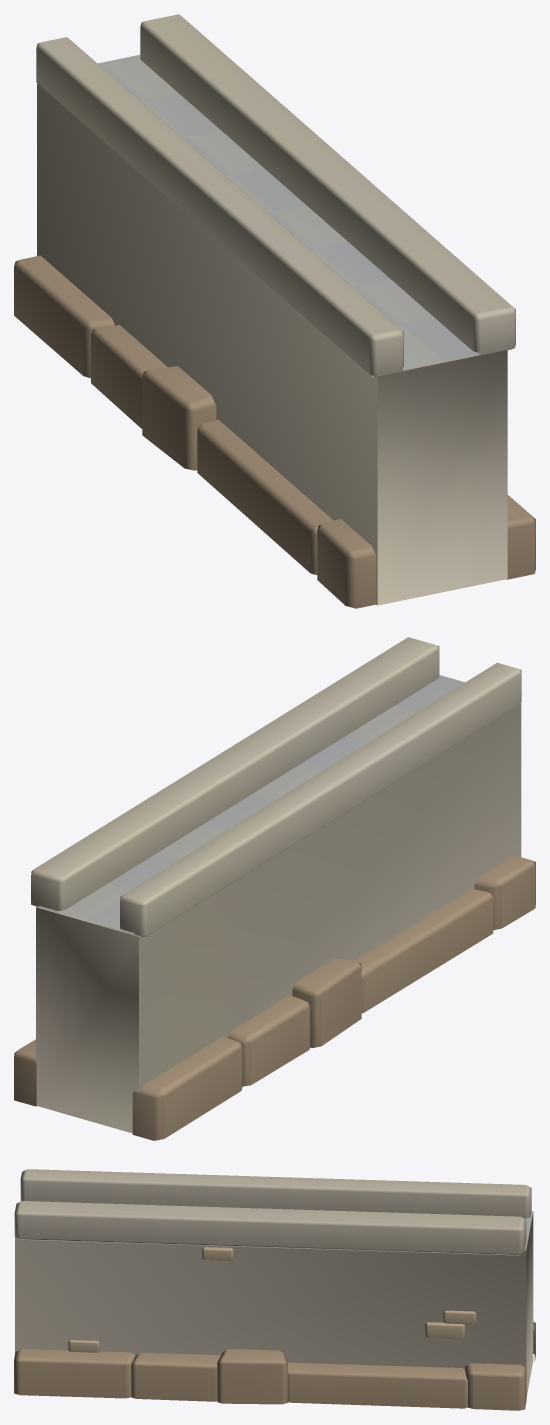
File: Wall_V2.glb
3 views of the same model, one above another, from view 1: azimuth 30°, elevation 25°; view 2: azimuth 150°, elevation 25°; view 3: azimuth 270°, elevation 25° (orthographic). The views are drawn at different scales.
Visible parts, largest first — view 1: ct_town_wall_2; view 2: ct_town_wall_2; view 3: ct_town_wall_2.
Part boxes in pixels (x1,y1,x2,y2): ct_town_wall_2: (14, 14, 535, 608); ct_town_wall_2: (14, 637, 535, 1140); ct_town_wall_2: (14, 1169, 535, 1410).
Bounding box in the file's own units: 2.8 × 3.13 × 8.41.
Materials: 2 (2 with a texture image).
